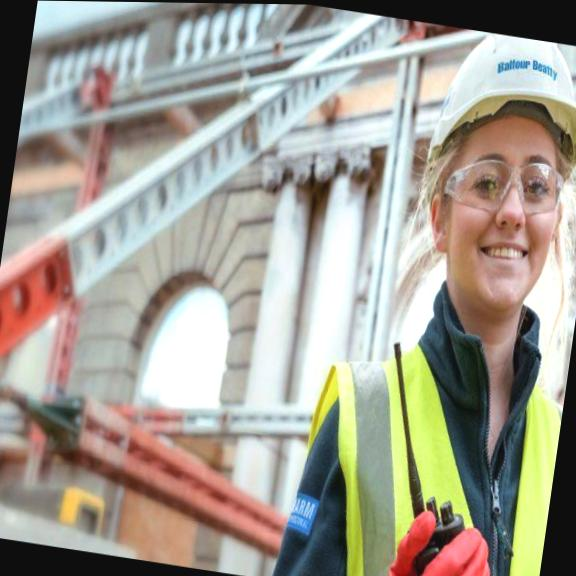safety_vest: (283, 297, 573, 576)
